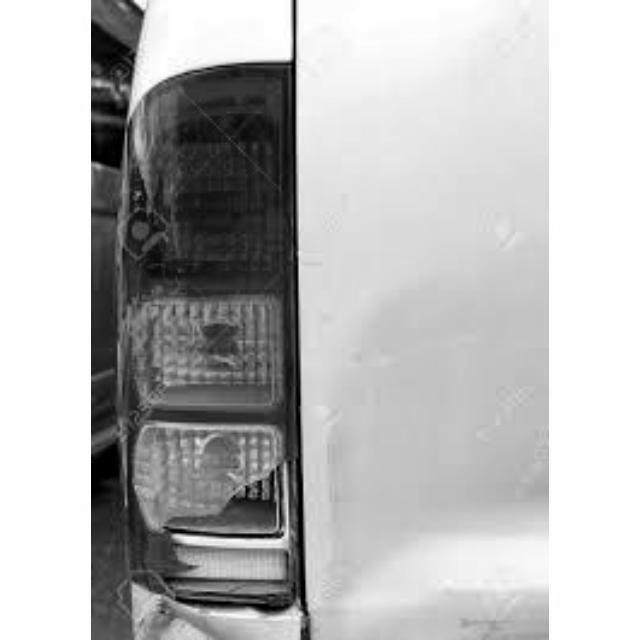Taillight-Damage: (104, 49, 297, 616)
